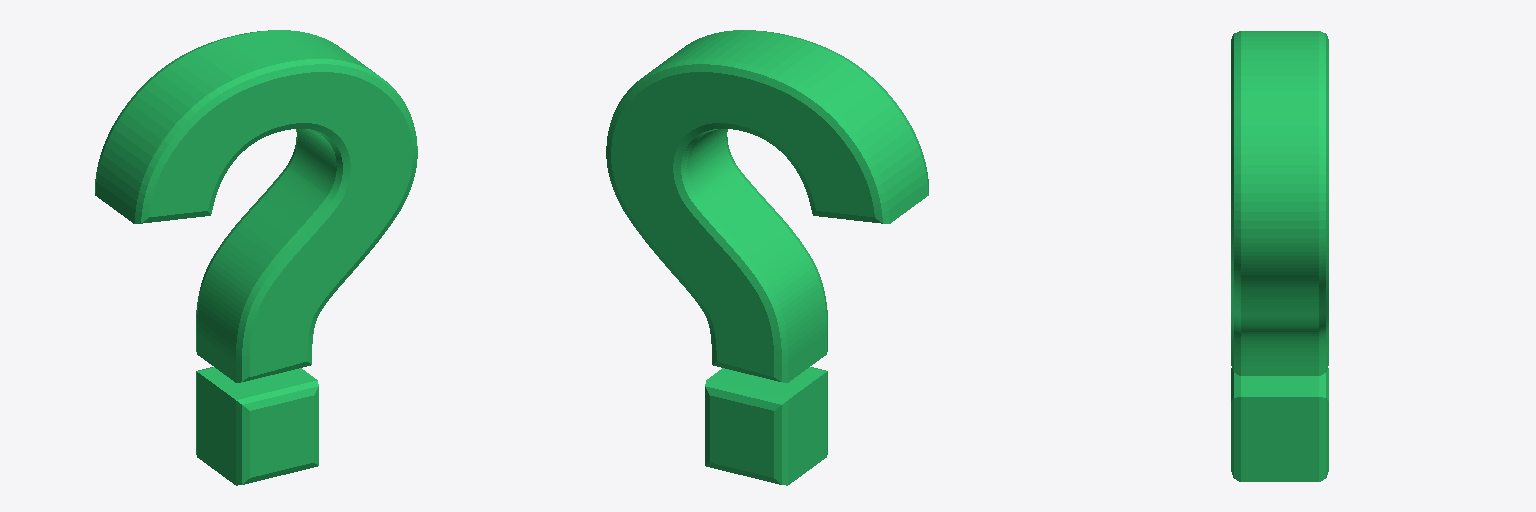
3 renders of one model, left to right at view 1: azimuth 30°, elevation 25°; view 2: azimuth 150°, elevation 25°; view 3: azimuth 270°, elevation 25°, orthographic.
Parts seen in each view (by area): view 1: Text_Mesh; view 2: Text_Mesh; view 3: Text_Mesh.
Part boxes in pixels (bbox=[...]): Text_Mesh: bbox=[95, 30, 417, 485]; Text_Mesh: bbox=[606, 30, 928, 485]; Text_Mesh: bbox=[1231, 31, 1328, 481].
Size of the model in its own units: 0.5123 by 0.7137 by 0.1552.
1 materials, 1 textured.